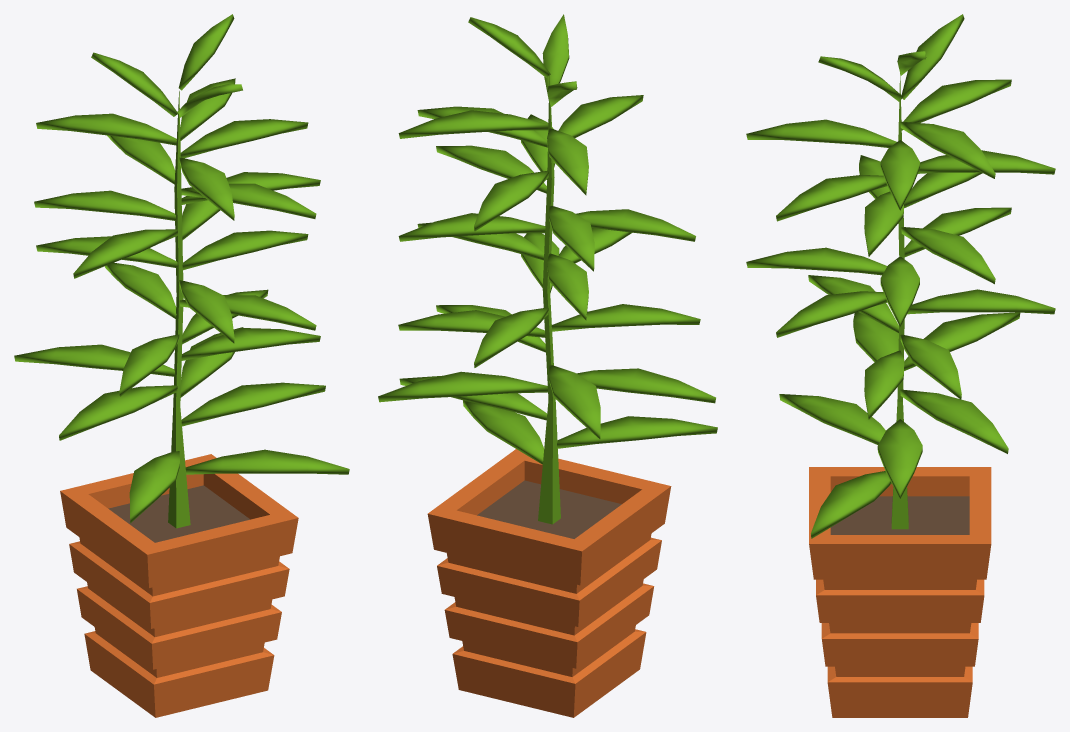
The picture shows the model from 3 angles, left to right: view 1: azimuth 30°, elevation 25°; view 2: azimuth 150°, elevation 25°; view 3: azimuth 270°, elevation 25°; orthographic projection. The views are drawn at different scales.
Parts seen in each view (by area): view 1: Plant2; view 2: Plant2; view 3: Plant2.
Boxes of the visible parts, bbox=[...] form: Plant2: bbox=[14, 14, 349, 717]; Plant2: bbox=[378, 14, 717, 717]; Plant2: bbox=[746, 14, 1055, 717].
Size of the model in its own units: 0.5137 by 1.09 by 0.457.
